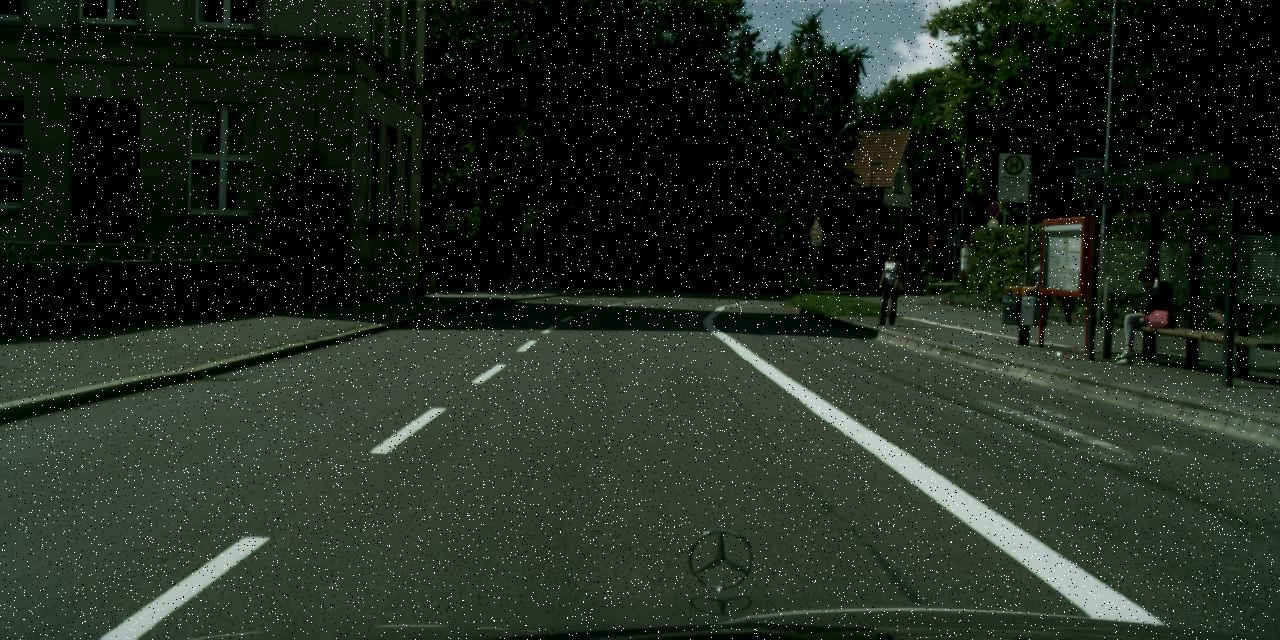ped: (874, 247, 904, 324), (1053, 250, 1083, 323), (1030, 259, 1056, 321), (919, 261, 930, 292)
